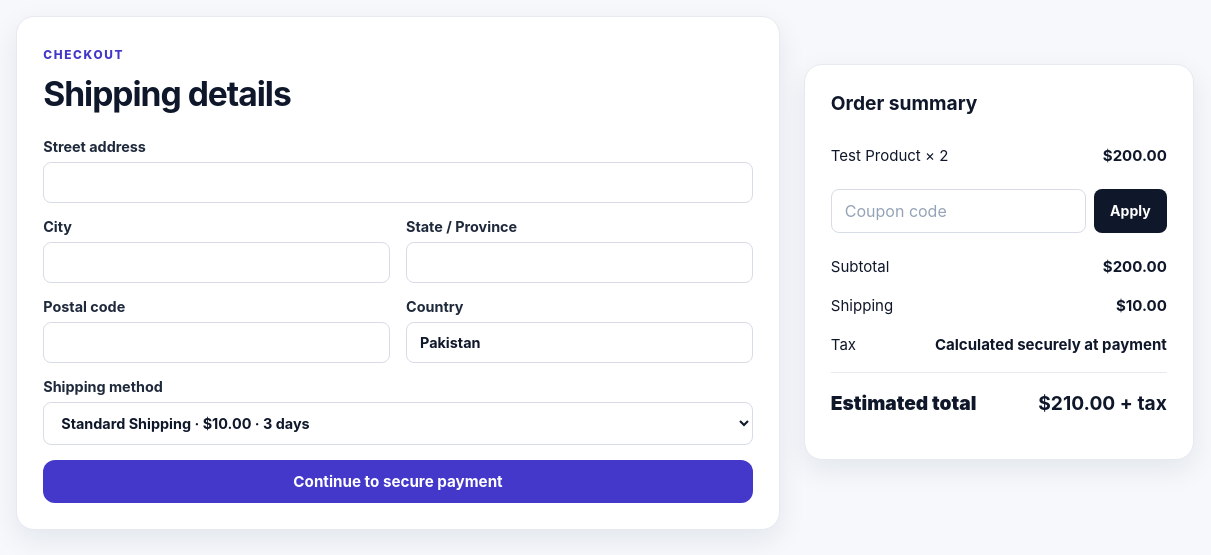
it: Checkout › applies a coupon successfully
Expected: the heading "Shipping details" is shown, 43,73 -> 291,114
Step 1. Type "save20" into the field with placeholder "Coupon code" → (958, 211), box 831,189 -> 1086,233
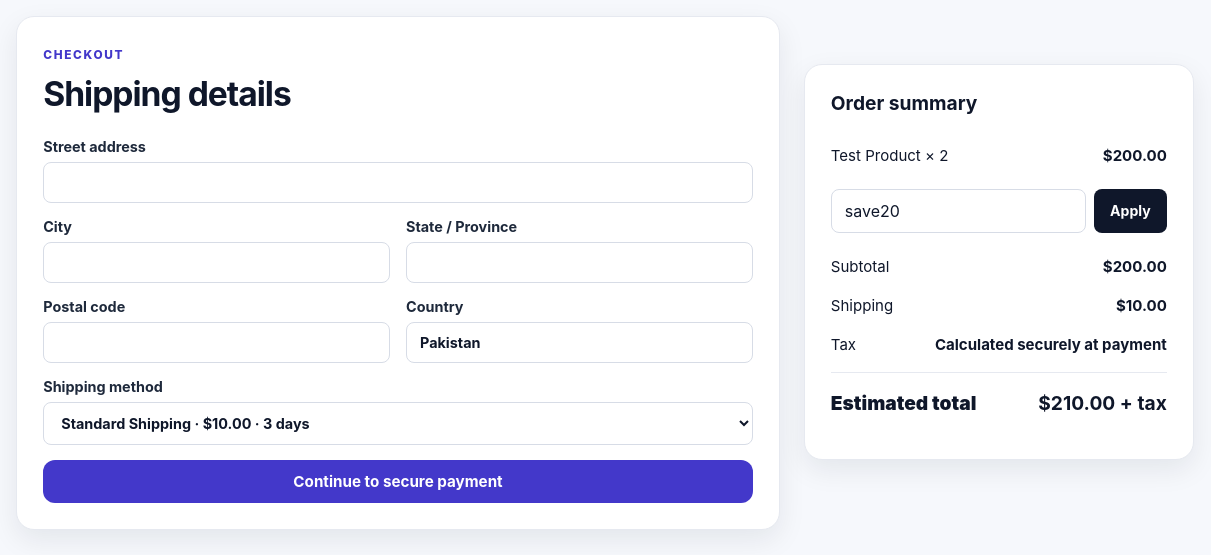
Step 2. Click the button "Apply" → (1130, 211), box 1094,189 -> 1167,233
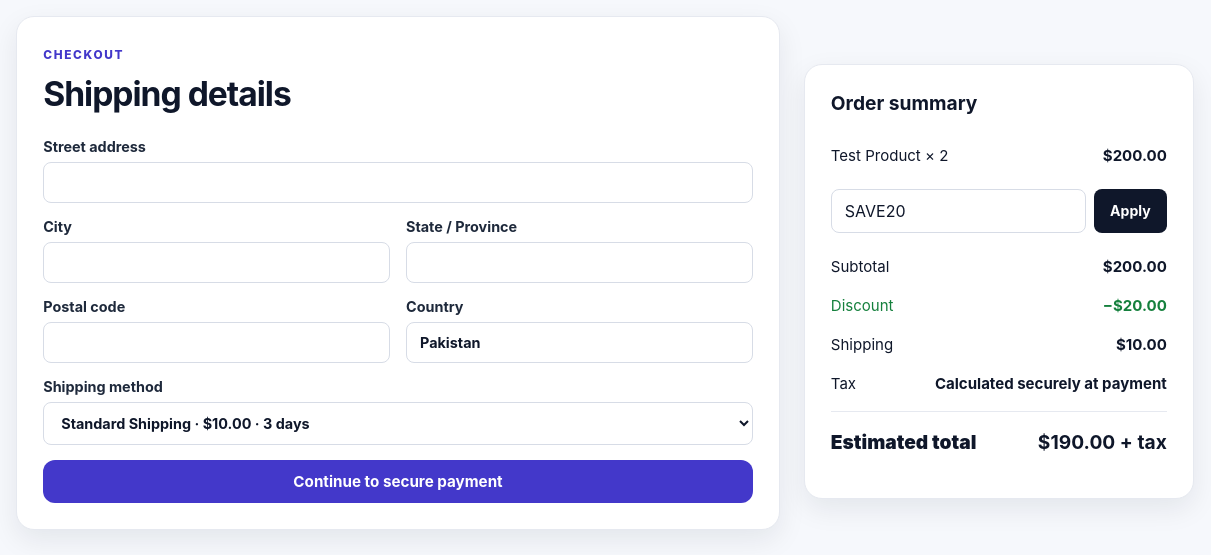
Expected: the text "−$20.00" is shown, 1103,296 -> 1167,315
Expected: the text "$190.00 + tax" is shown, 1038,430 -> 1167,454
